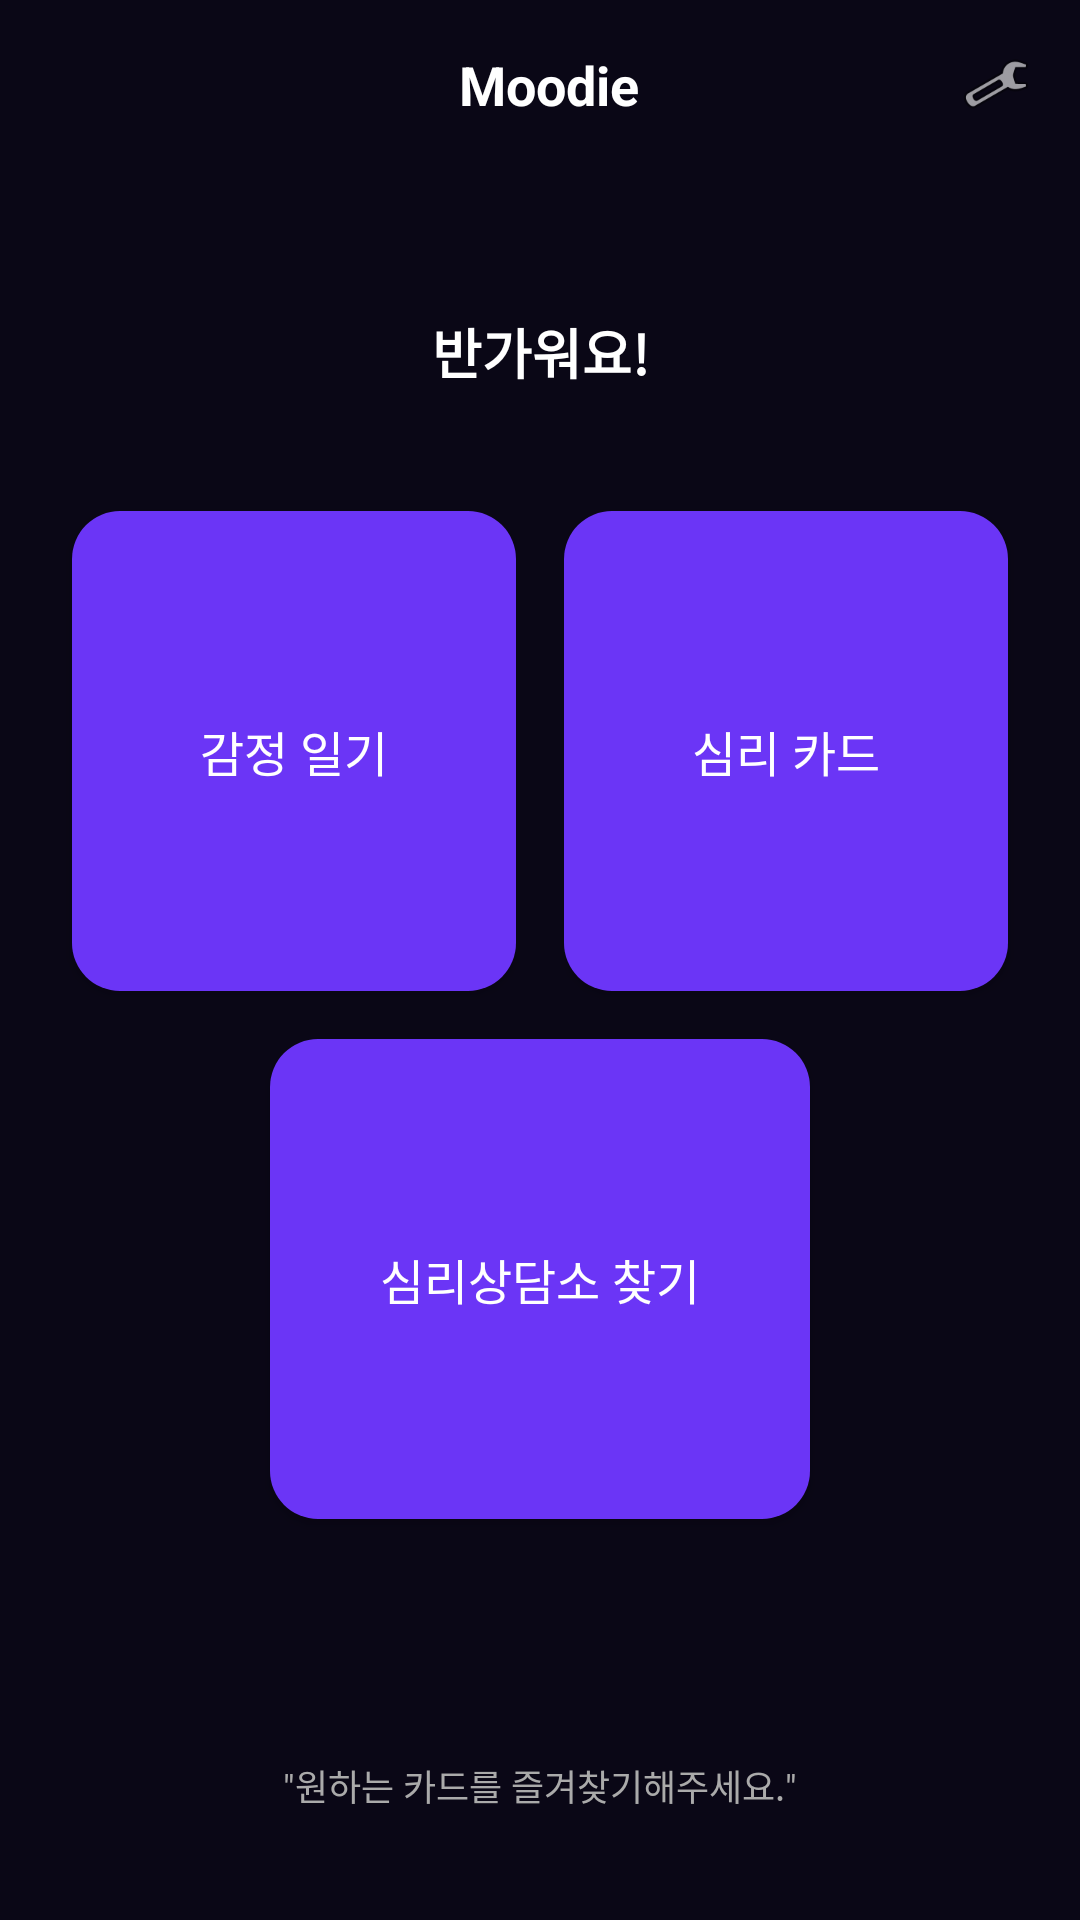

Screen size 1080x1920. Icon name, then its box in pixels as (x1, y1, x2, y2):
preferences: (966, 61, 1026, 107)
